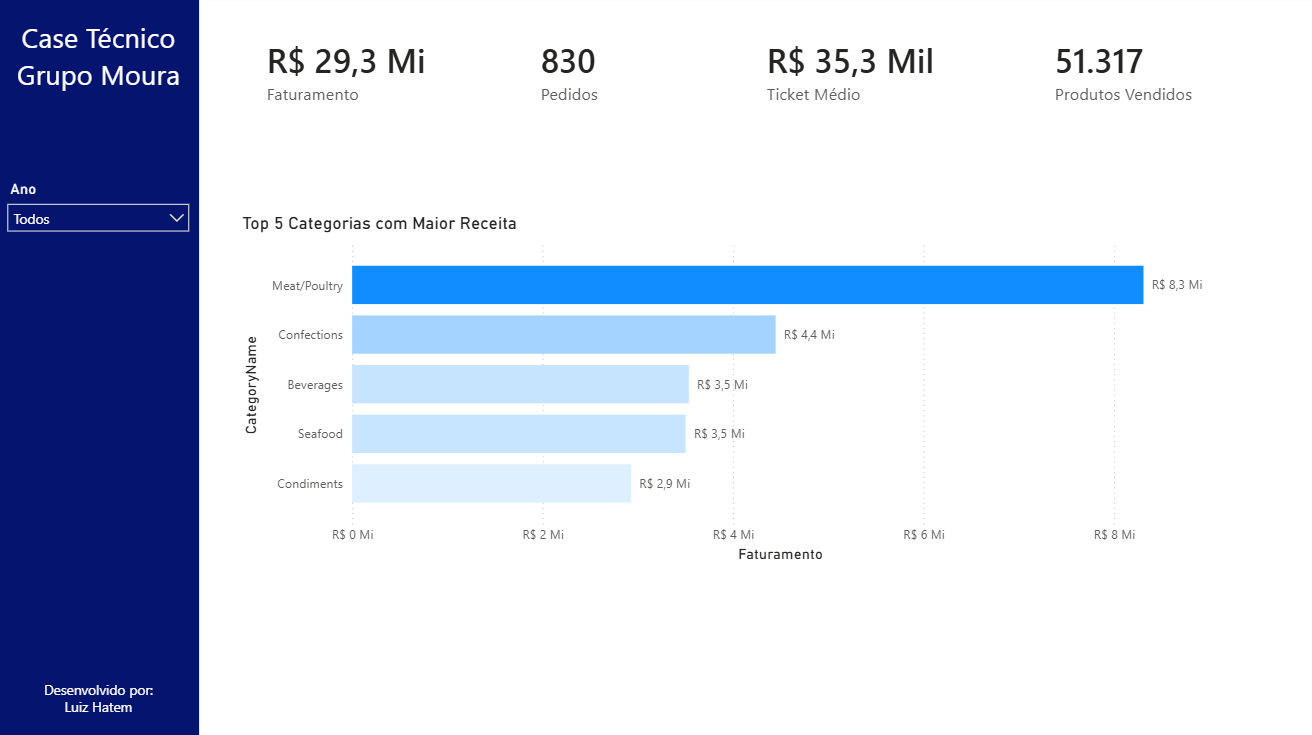

The page's visual inventory and layout, read from the dashboard file:
{"tool":"powerbi","page":{"name":"Página 1","canvas":[1280,720],"ordinal":0},"visuals":[{"type":"cardVisual","fields":{"Data":["orderdetails.Faturamento"]},"box":[233.4,16.5,266.5,111.9],"z":0},{"type":"shape","box":[0,0,197.4,719.8],"z":1},{"type":"cardVisual","fields":{"Data":["orderdetails.Pedidos"]},"box":[499.9,16.5,219.8,111.9],"z":2},{"type":"cardVisual","fields":{"Data":["orderdetails.Produtos Vendidos"]},"box":[999.9,16.5,205.2,111.9],"z":3},{"type":"barChart","title":"Top 5 Categorias com Maior Receita","fields":{"Category":["categories.CategoryName"],"Y":["orderdetails.Faturamento"]},"box":[233.4,211.1,971.7,344.3],"z":4},{"type":"slicer","fields":{"Values":["orders_cleaned.Ano"]},"box":[0,174.1,197.4,72.9],"z":5},{"type":"textbox","box":[0,16.5,197.4,111.9],"z":6},{"type":"textbox","box":[0,660.4,197.4,59.3],"z":7},{"type":"cardVisual","fields":{"Data":["orderdetails.Ticket Médio"]},"box":[719.8,16.5,280.1,111.9],"z":8}]}

Visuals, with their boxes in screenshot pixels (x1, y1, x2, y2), scaled from the page's 1280x720 canvas onto the 1312x735 screenshot:
cardVisual - orderdetails.Faturamento: 239 17 512 131
shape: 0 0 202 734
cardVisual - orderdetails.Pedidos: 512 17 738 131
cardVisual - orderdetails.Produtos Vendidos: 1025 17 1235 131
"Top 5 Categorias com Maior Receita" barChart: 239 215 1235 567
slicer - orders_cleaned.Ano: 0 178 202 252
textbox: 0 17 202 131
textbox: 0 674 202 734
cardVisual - orderdetails.Ticket Médio: 738 17 1025 131
